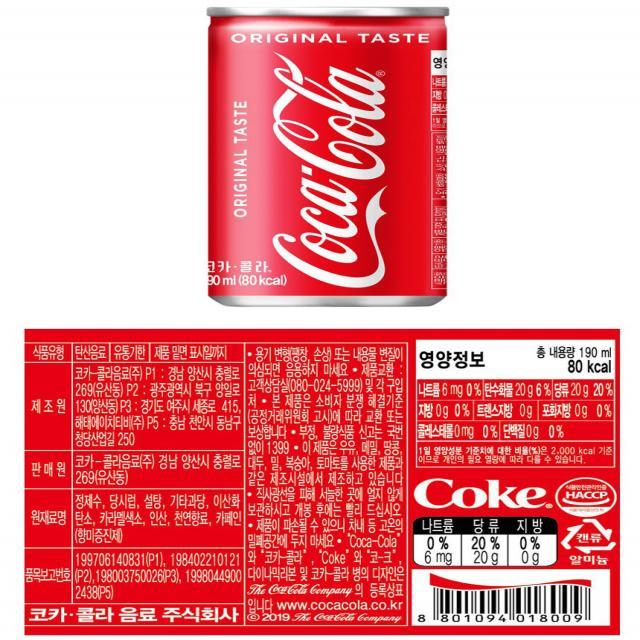coca-cola: (199, 2, 456, 314)
